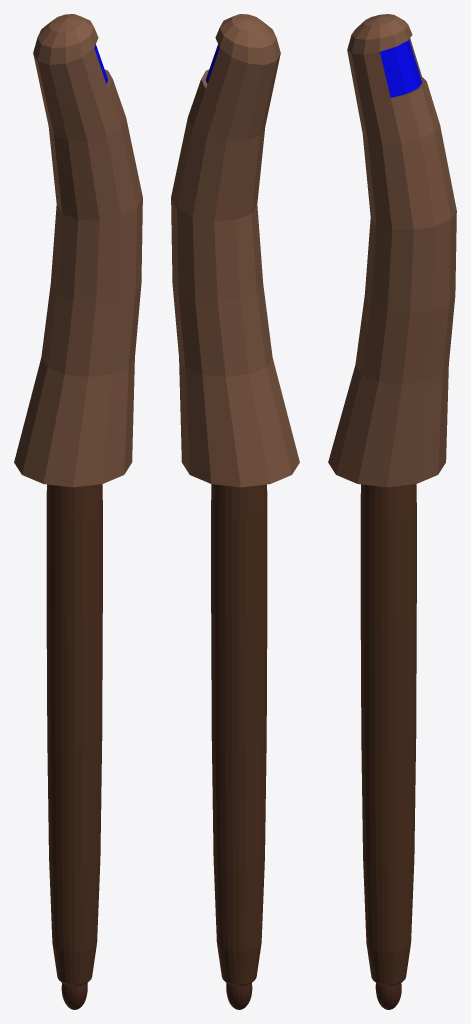
The model's file is Wand 46.glb.
The picture shows the model from 3 angles, left to right: view 1: azimuth 30°, elevation 25°; view 2: azimuth 150°, elevation 25°; view 3: azimuth 330°, elevation 25°; orthographic projection.
Parts seen in each view (by area): view 1: GeneratedWand; view 2: GeneratedWand; view 3: GeneratedWand.
Part boxes in pixels (left/top/right/bottom): GeneratedWand: left=14, top=14, right=142, bottom=1009; GeneratedWand: left=171, top=14, right=299, bottom=1009; GeneratedWand: left=328, top=14, right=456, bottom=1009.
Size of the model in its own units: 0.0644 by 0.5296 by 0.0572.
